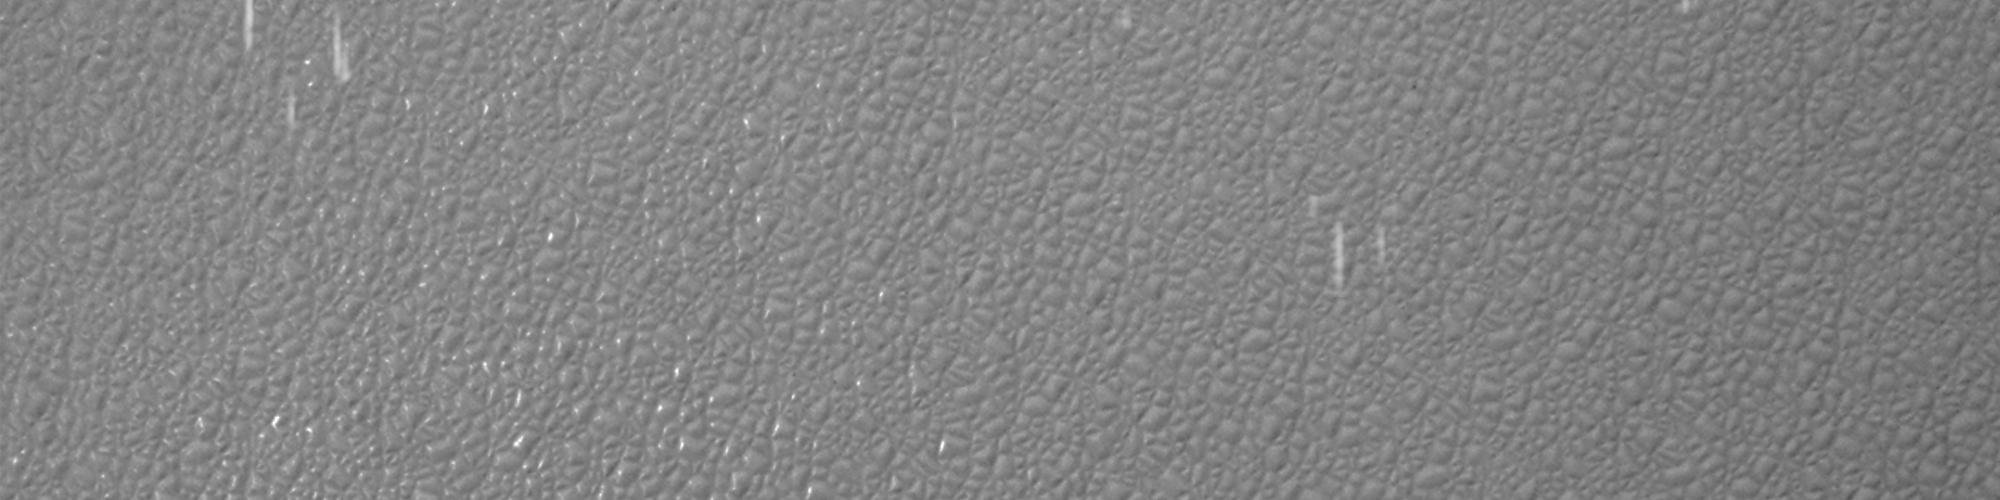Streaks: (323, 9, 356, 91), (1327, 209, 1349, 302), (233, 3, 261, 62), (278, 75, 304, 136), (1108, 1, 1147, 34), (1370, 218, 1390, 273), (1668, 3, 1708, 19)
